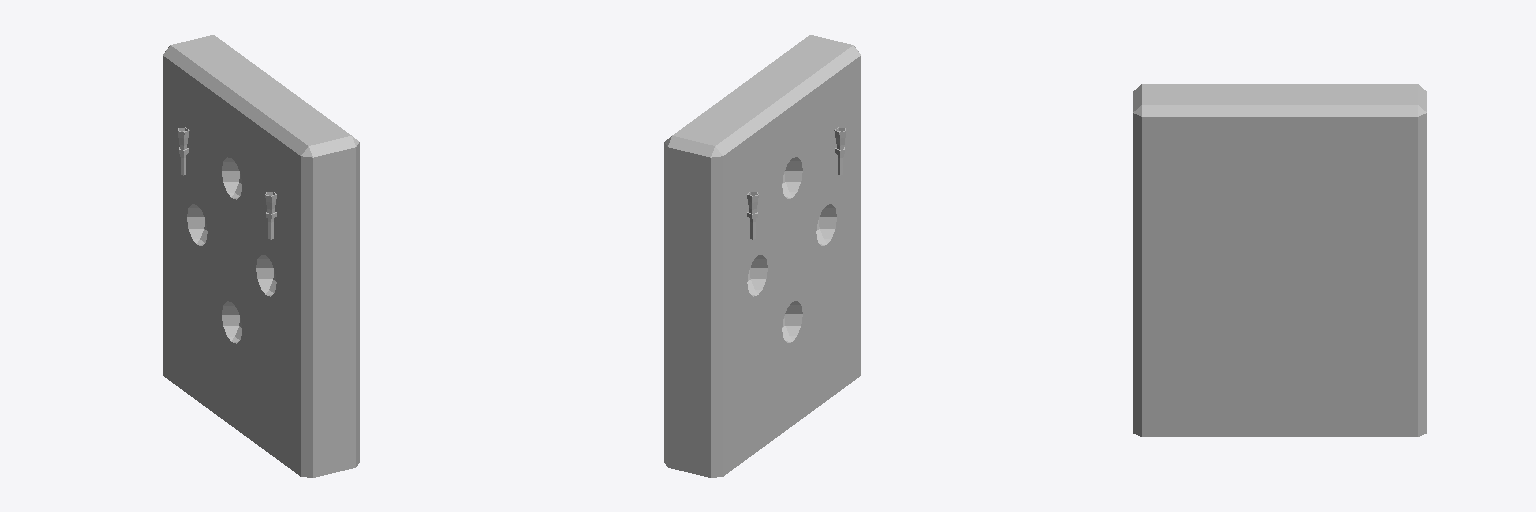
Rendered from Puerta_prision_base.obj.
3 renders of one model, left to right at view 1: azimuth 30°, elevation 25°; view 2: azimuth 150°, elevation 25°; view 3: azimuth 270°, elevation 25°, orthographic.
Parts seen in each view (by area): view 1: puerta_normal.012, antorcha.001; view 2: puerta_normal.012, antorcha.001; view 3: puerta_normal.012.
Part boxes in pixels (left/top/right/bottom): puerta_normal.012: left=163, top=35, right=359, bottom=477; antorcha.001: left=178, top=127, right=276, bottom=239; puerta_normal.012: left=664, top=35, right=860, bottom=477; antorcha.001: left=747, top=127, right=845, bottom=239; puerta_normal.012: left=1133, top=84, right=1426, bottom=436.
Size of the model in its own units: 3.53 by 16.03 by 13.